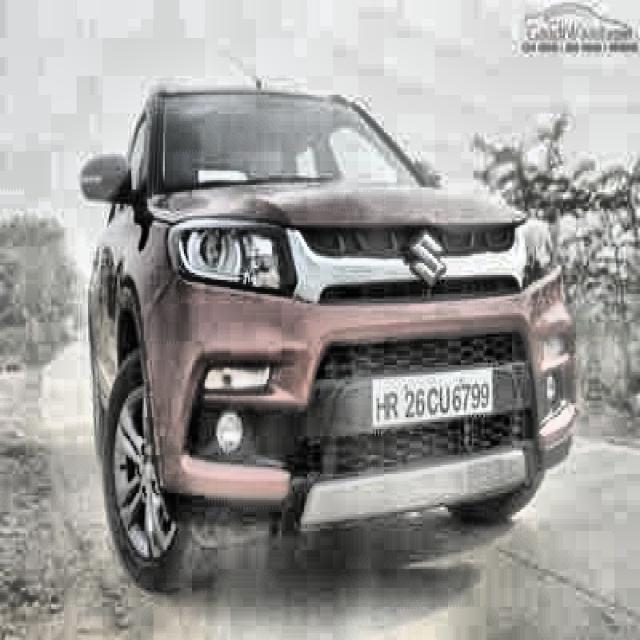license_plate: (371, 372, 491, 429)
